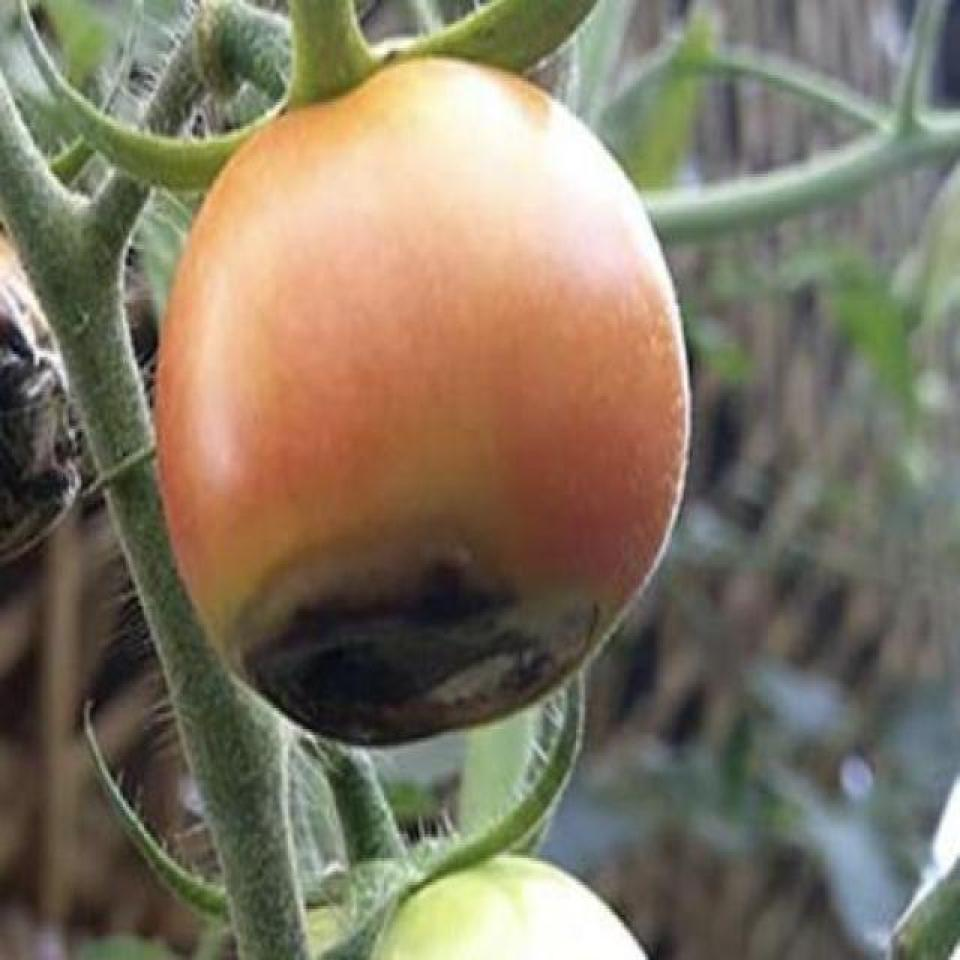Blossom_end_rot: (206, 522, 580, 747)
